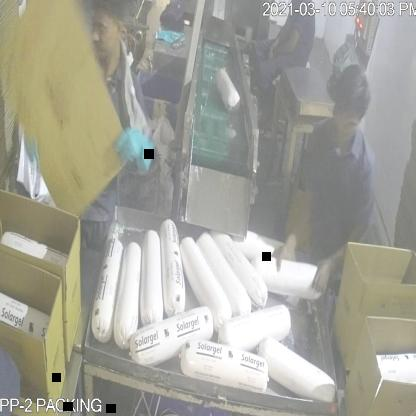glove: (116, 120, 160, 178)
no_glove: (269, 169, 317, 275), (310, 216, 373, 296), (266, 22, 303, 66)
